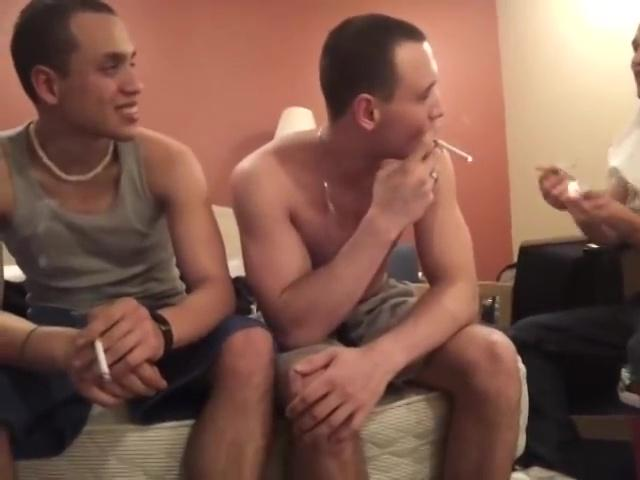cigarette: (435, 137, 476, 163), (92, 336, 112, 384)
